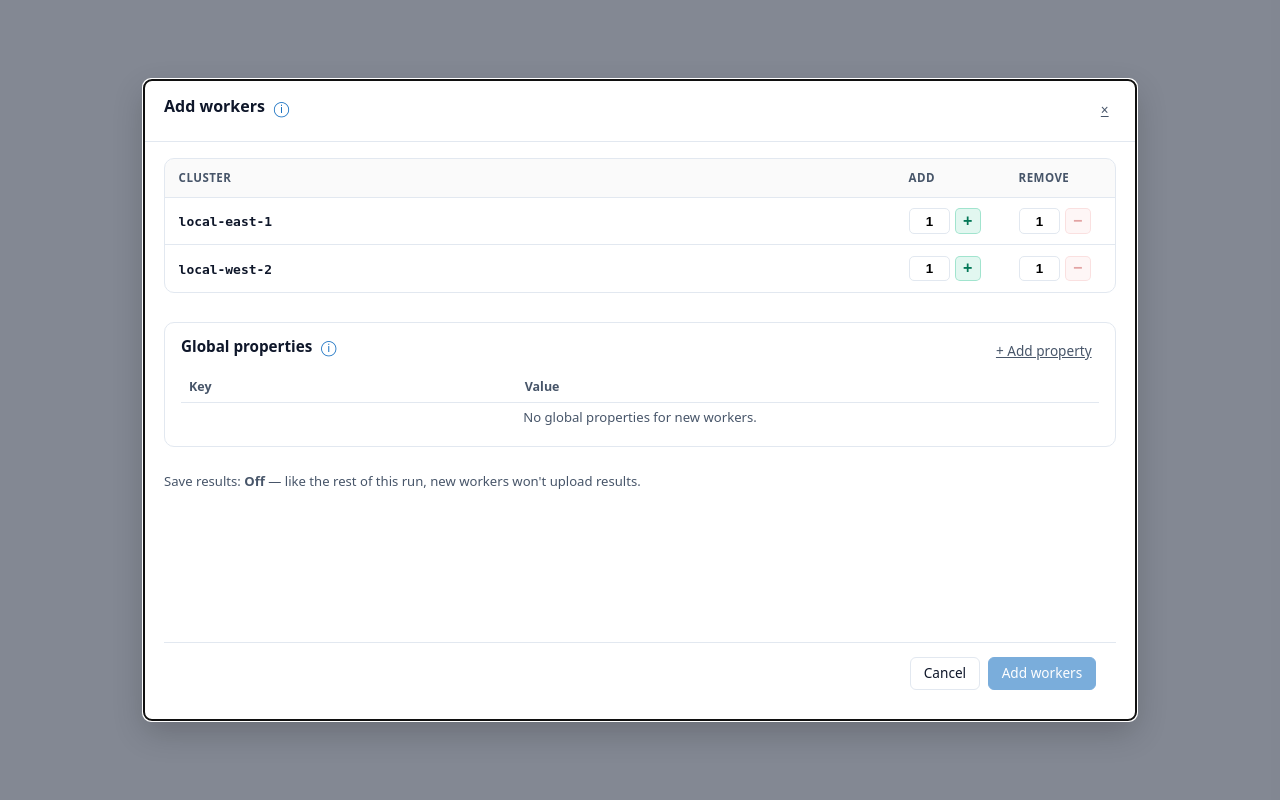
Test: ScaleUpRunModal — staged progress modal (problem #2) › submitting swaps the form for the staged progress modal (Provisioning → Distributing → …)
Click the button named "add workers to local-east-1": (968,221) [955,208,981,234]
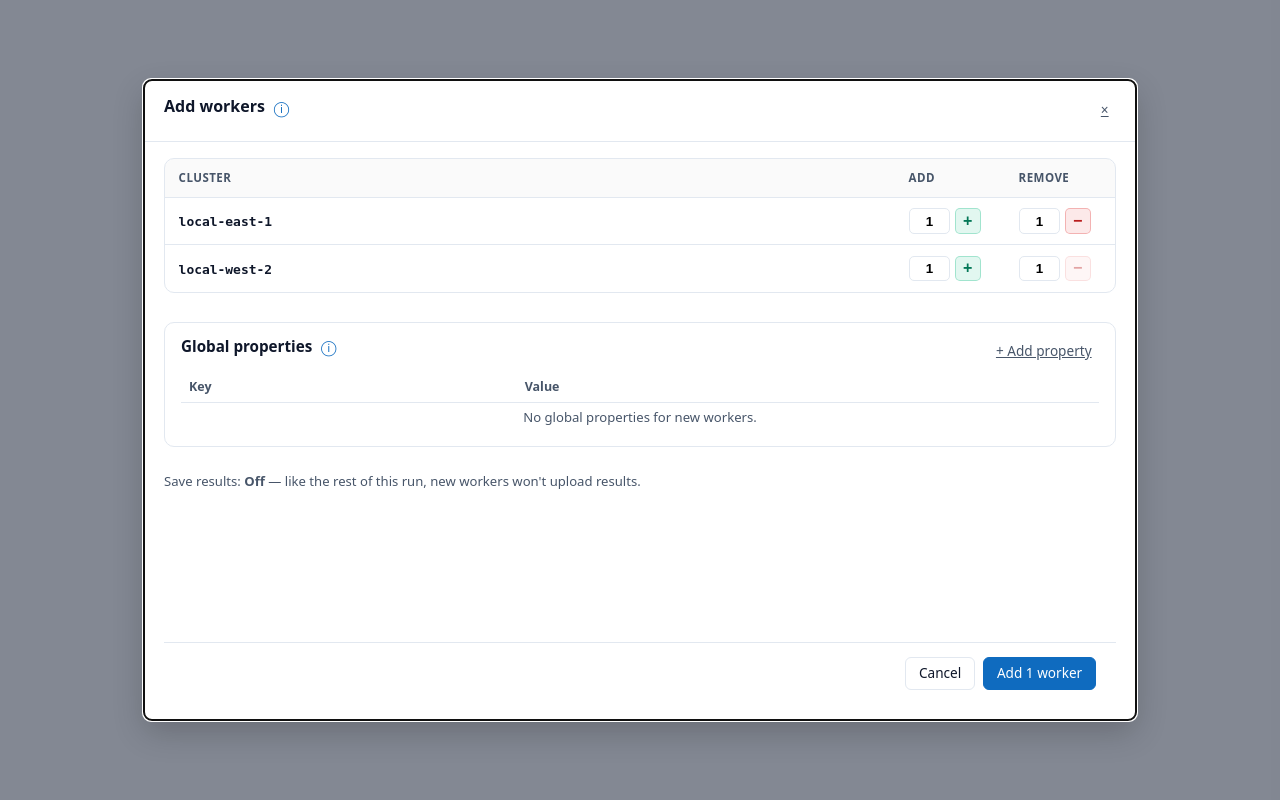
Click the button "Add 1 worker": (1040,674) [983,657,1096,690]
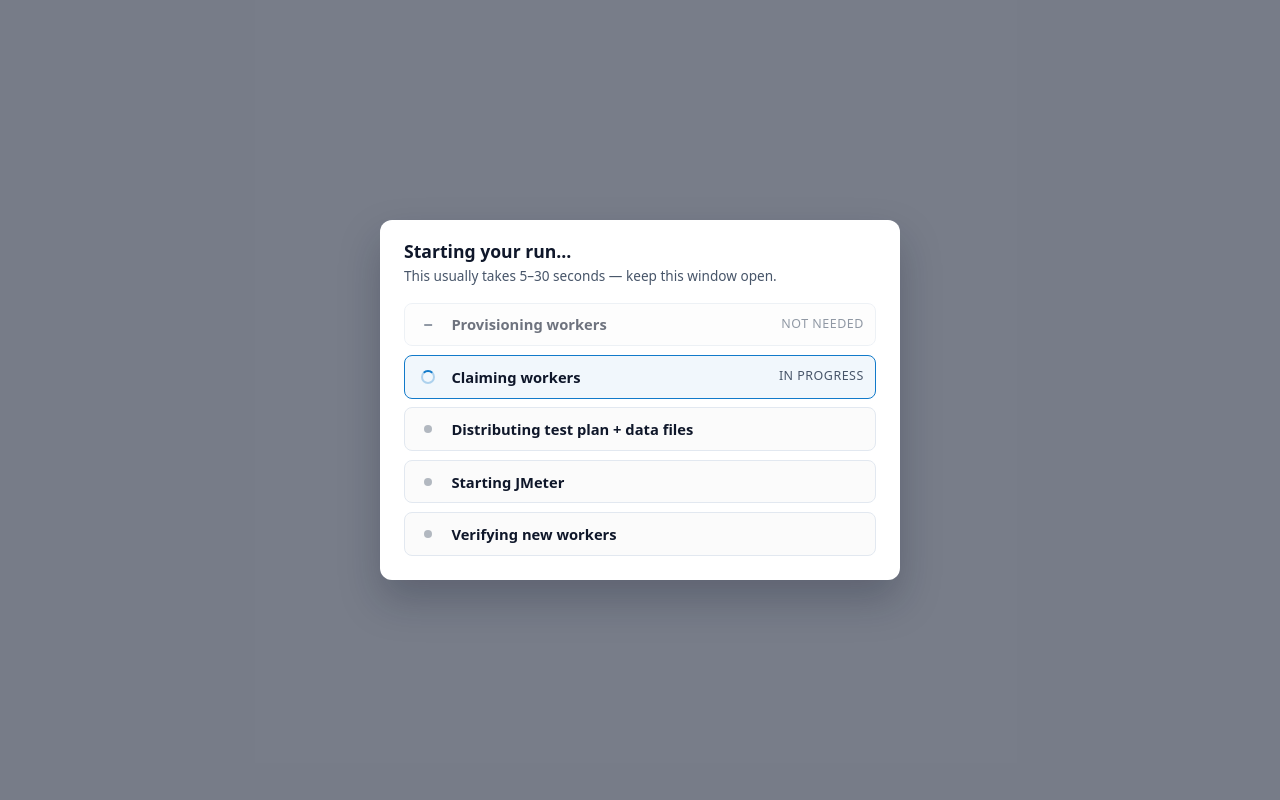
Check: the text "Provisioning workers" is shown, box [451,314,607,334]
Check: the text "Distributing test plan + data files" is shown, box [451,419,693,439]
Check: the text "Starting JMeter" is shown, box [451,472,564,492]
